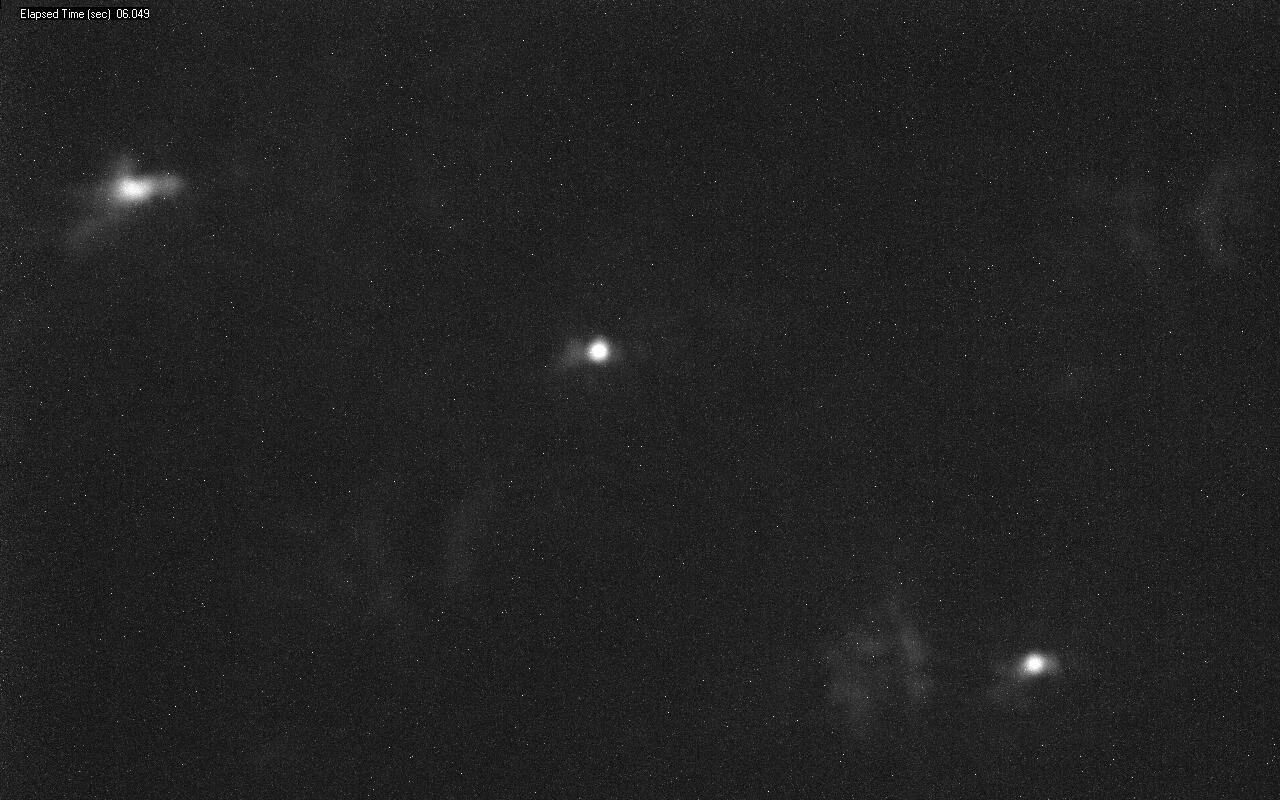Bead: (589, 340, 609, 362), (1023, 654, 1045, 674)
